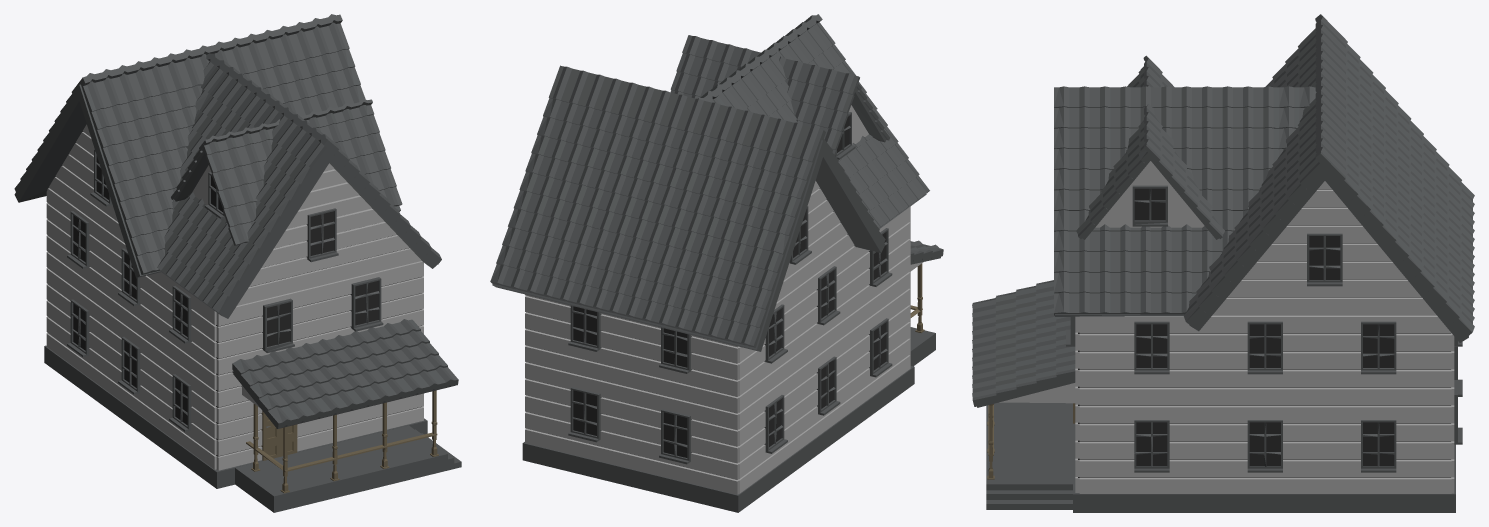
File: house-porch.glb
The picture shows the model from 3 angles, left to right: view 1: azimuth 30°, elevation 25°; view 2: azimuth 150°, elevation 25°; view 3: azimuth 270°, elevation 25°; orthographic projection. The views are drawn at different scales.
Visible parts, largest first — view 1: House1; view 2: House1; view 3: House1.
Part boxes in pixels (x1,y1,x2,y2): House1: (14,14,461,512); House1: (490,14,943,512); House1: (972,14,1474,512).
Bounding box in the file's own units: 2.56 × 3.18 × 3.87.
